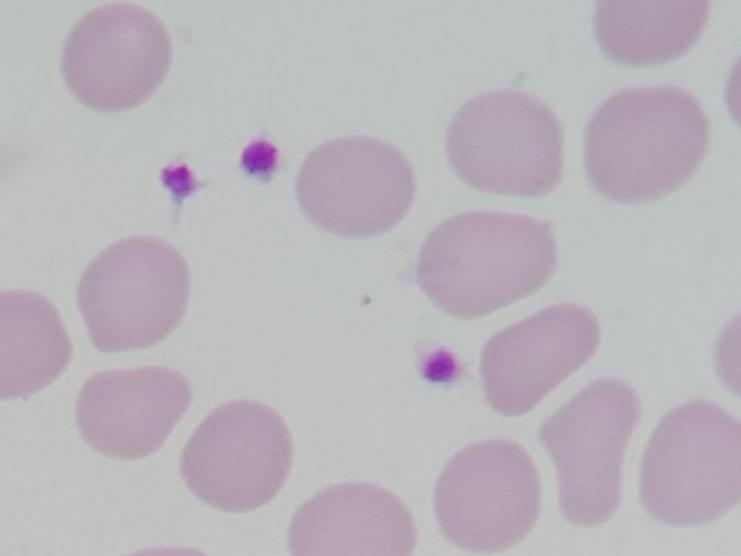Uninfected: (538, 376, 641, 526), (416, 210, 555, 317), (583, 87, 706, 200), (75, 235, 192, 352), (181, 400, 296, 512), (446, 91, 564, 197), (640, 402, 741, 525), (482, 304, 598, 411), (432, 440, 542, 551), (295, 135, 415, 235), (62, 3, 171, 109), (74, 366, 191, 461), (287, 481, 416, 556), (589, 0, 709, 67), (1, 289, 71, 399)
